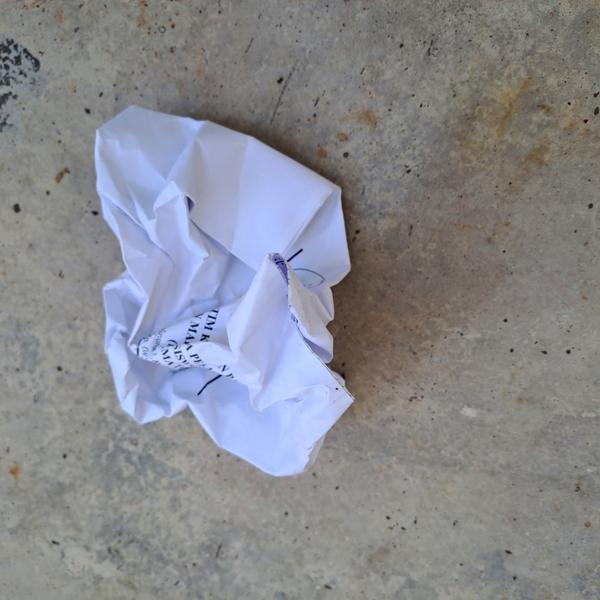Organik: (51, 87, 379, 489)
